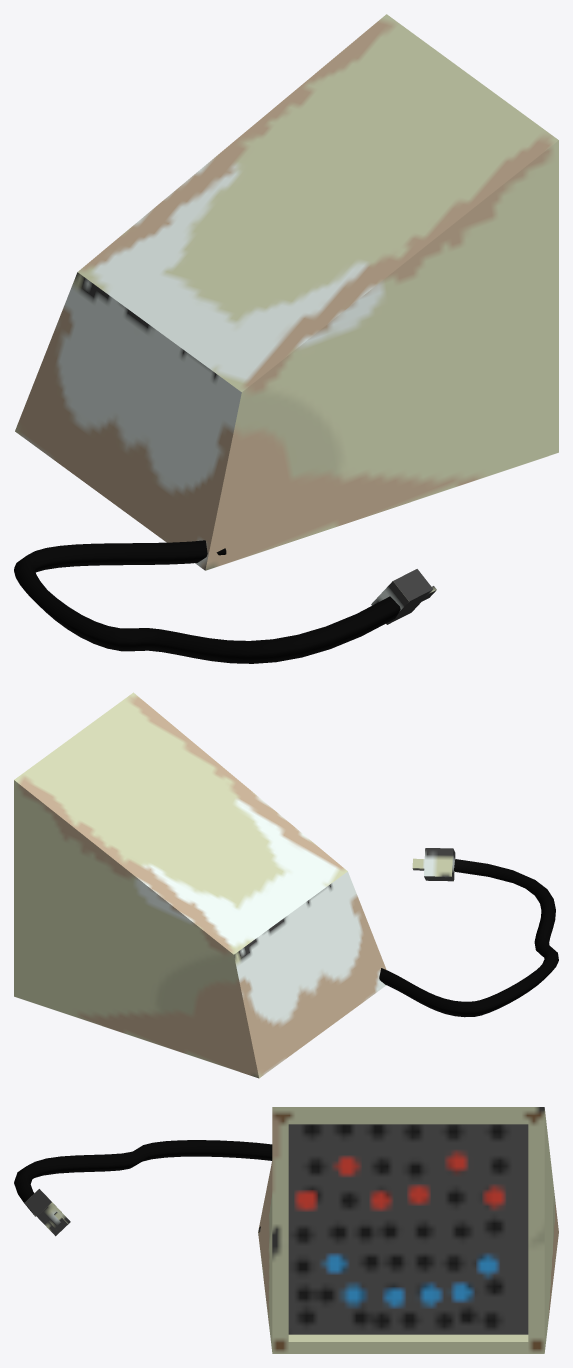
Rendered from lite_brite.obj.
3 renders of one model, top to bottom at view 1: azimuth 30°, elevation 25°; view 2: azimuth 150°, elevation 25°; view 3: azimuth 270°, elevation 25°, orthographic. The views are drawn at different scales.
Visible parts, largest first — view 1: Cube; view 2: Cube; view 3: Cube.
Boxes of the visible parts, bbox=[...] form: Cube: bbox=[14, 14, 558, 663]; Cube: bbox=[14, 692, 558, 1078]; Cube: bbox=[14, 1107, 558, 1353].
Bounding box in the file's own units: 3.65 × 2.15 × 4.
